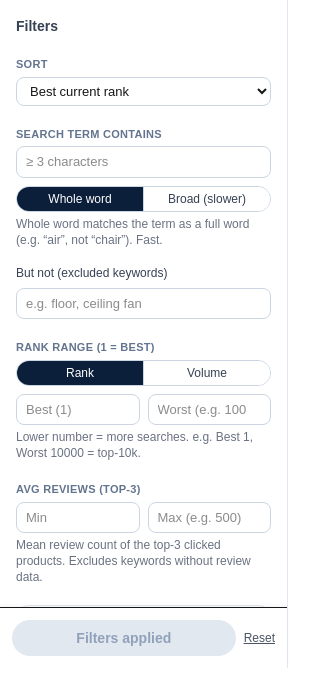
FilterSidebar range metric toggle › flips the card label with the metric
This screenshot has width=320, height=685.
expect the text "Rank range (1 = best)" is shown: met, box [16,341,155,353]
Click the button "Volume" at (206, 372), box [143,360,270,384]
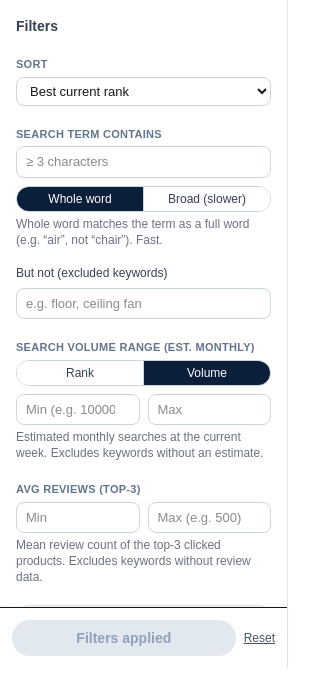
expect the text "Search volume range (est. monthly)" is shown: met, box [16,339,271,356]
expect the text "Rank range (1 = best)" is gone: met
